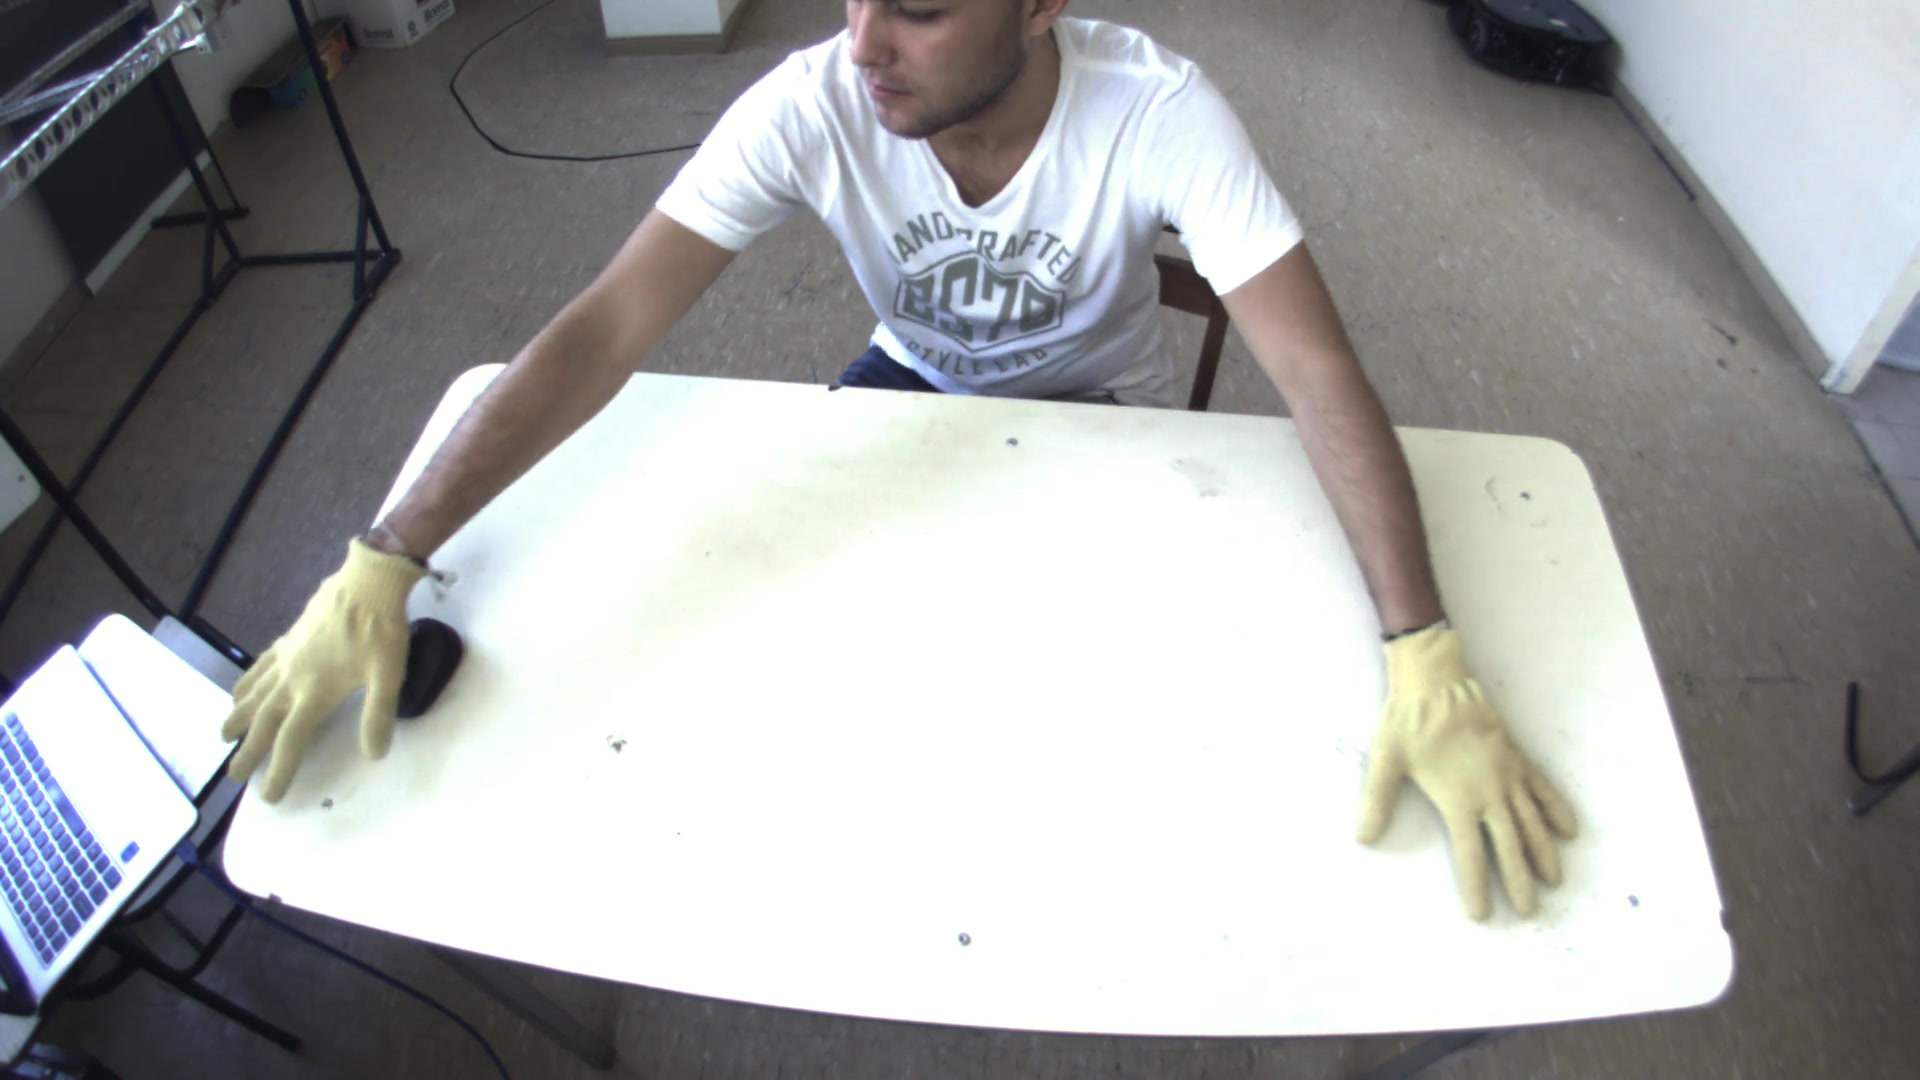hand: (1350, 617, 1600, 934), (204, 531, 450, 814)
